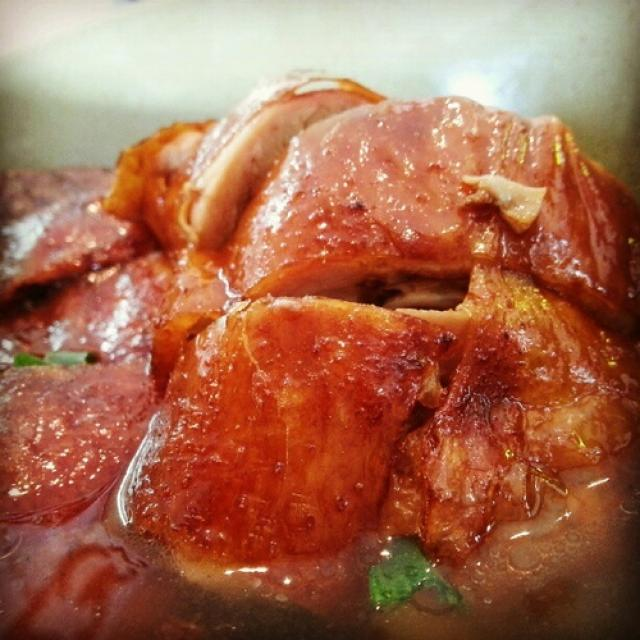烧串烤肉: (22, 64, 594, 591)
